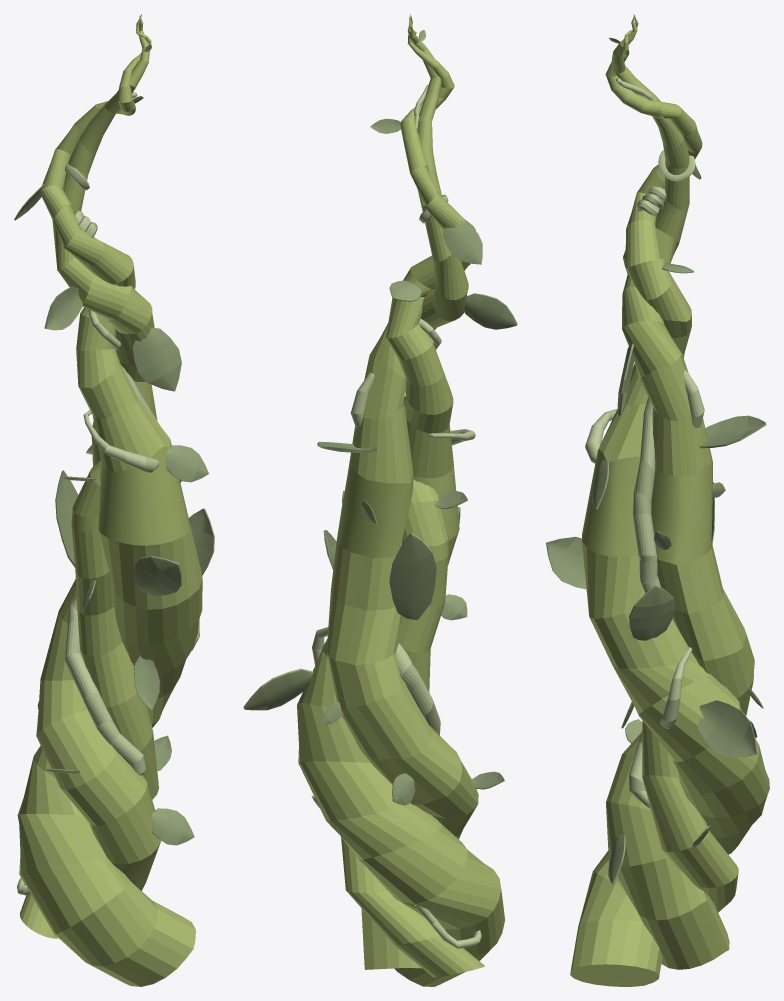
File: haricot.fbx
The picture shows the model from 3 angles, left to right: view 1: azimuth 30°, elevation 25°; view 2: azimuth 150°, elevation 25°; view 3: azimuth 270°, elevation 25°; orthographic projection. The views are drawn at different scales.
Parts seen in each view (by area): view 1: pCube23; view 2: pCube23; view 3: pCube23.
Boxes of the visible parts, <box> form: pCube23: <box>14,14,214,986</box>; pCube23: <box>243,14,517,986</box>; pCube23: <box>546,14,769,986</box>.
Bounding box in the file's own units: 12.32 × 54.48 × 11.22.
